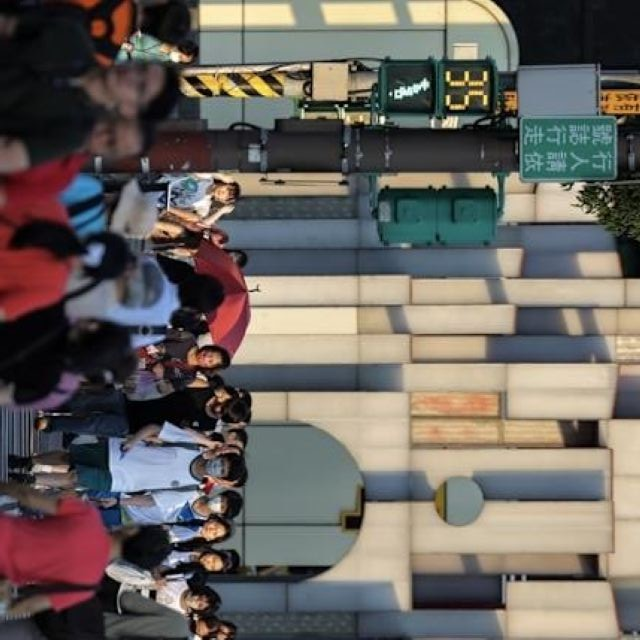green_light: (381, 62, 498, 113)
